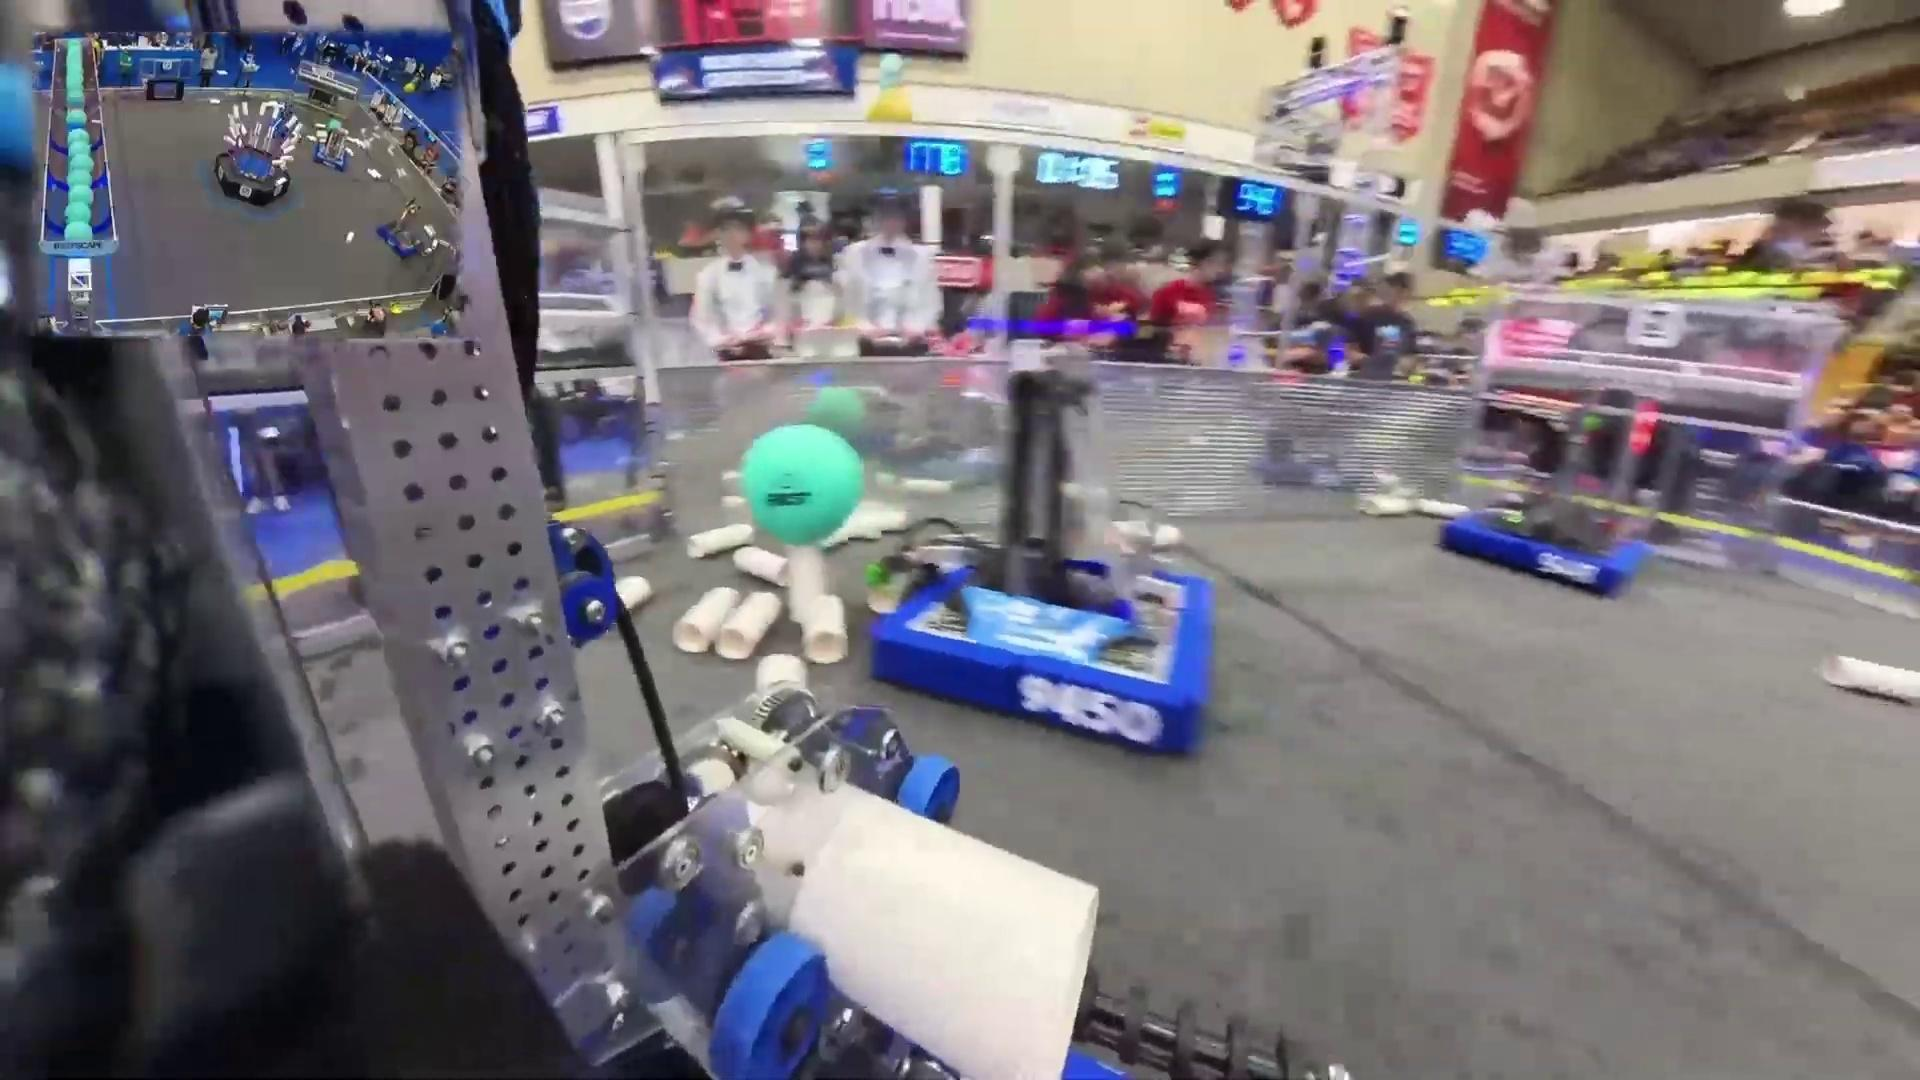robot: (870, 365, 1216, 762), (1437, 417, 1644, 601), (376, 208, 427, 266), (313, 129, 355, 177), (266, 109, 306, 137)
